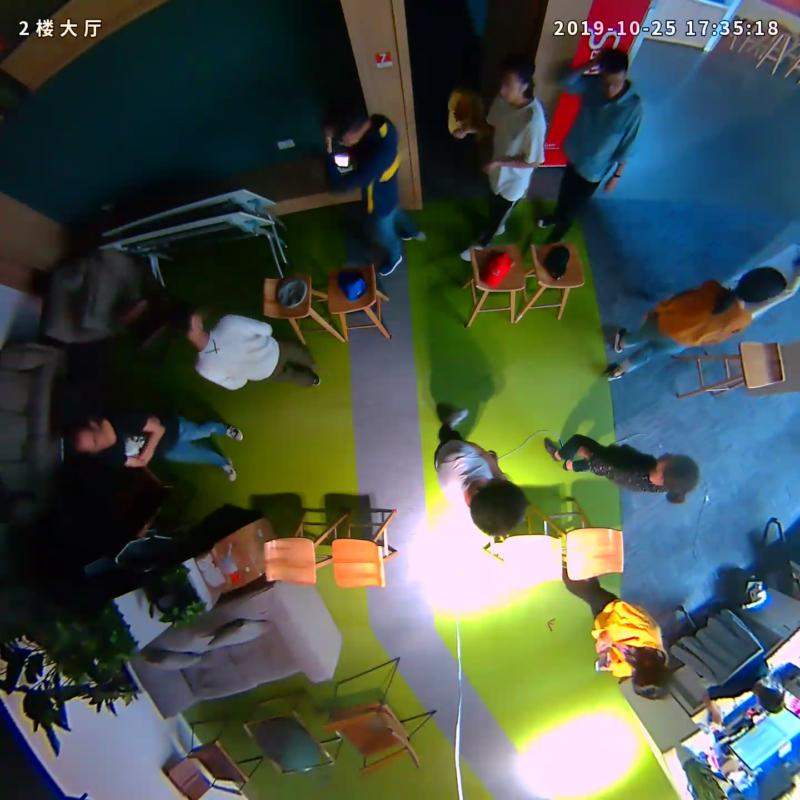head: (469, 472, 527, 537), (654, 452, 700, 505), (322, 100, 372, 147), (631, 654, 672, 701), (63, 414, 110, 455), (738, 266, 789, 303), (497, 54, 533, 103), (595, 49, 629, 100), (164, 301, 205, 341)
